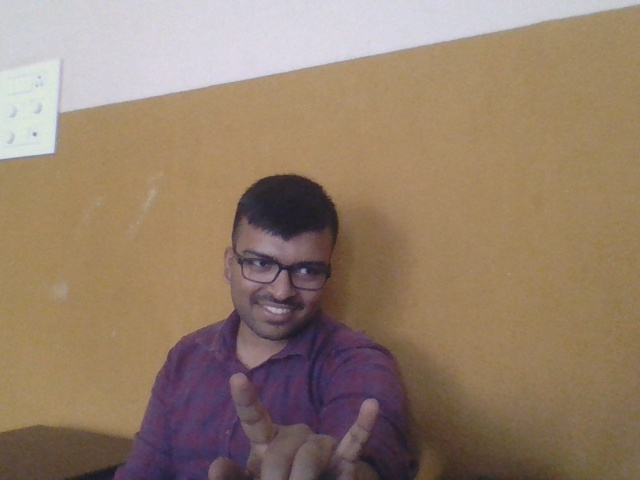I Love You: (199, 361, 404, 480)
